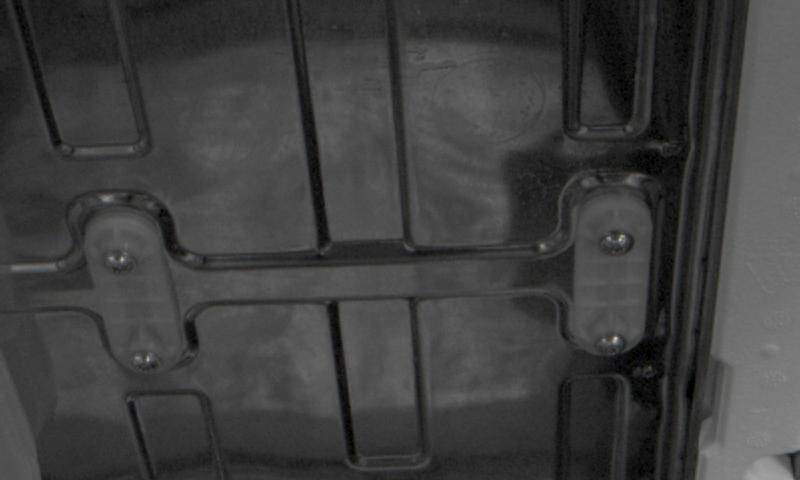vida-ok: (597, 219, 640, 264), (101, 267, 141, 312), (126, 372, 168, 412), (608, 357, 648, 395)
